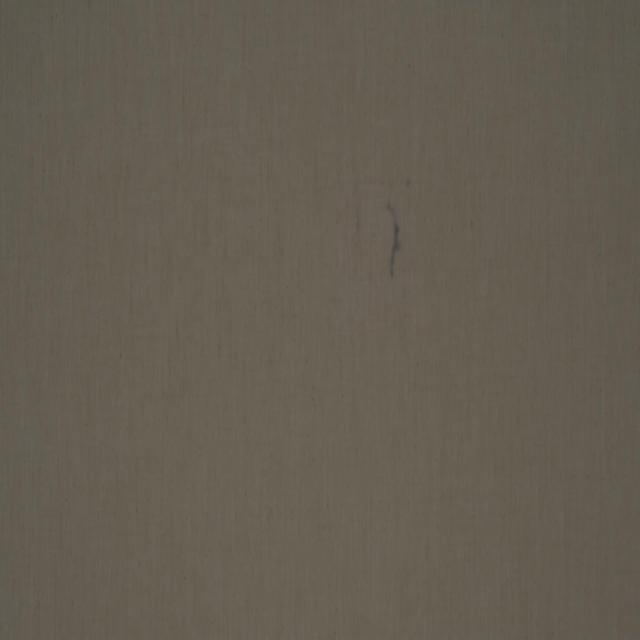dirty: (386, 199, 402, 281)
